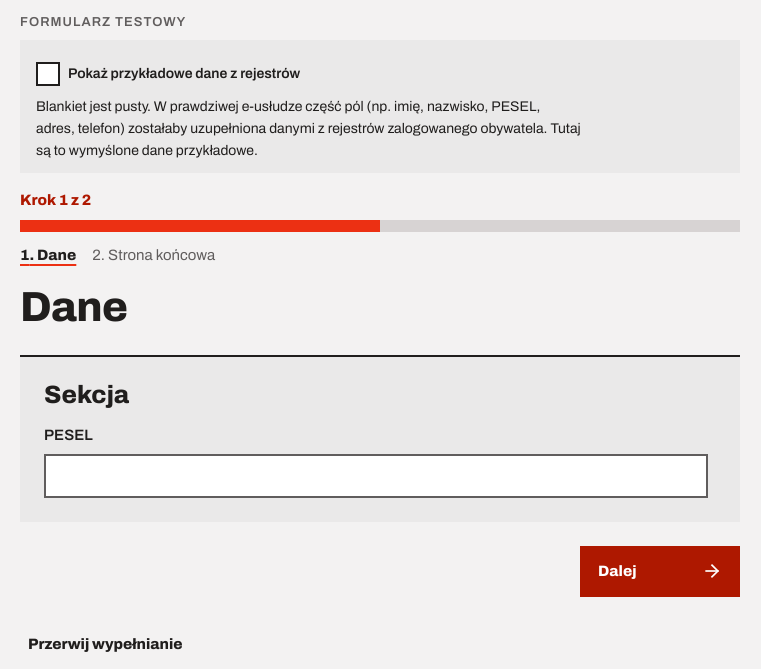
validation on Dalej › 'Wstecz' returns to the previous page with answers kept
This screenshot has width=761, height=669.
In the field labelled "PESEL": (376,476) [44, 454, 708, 498], type "abc"
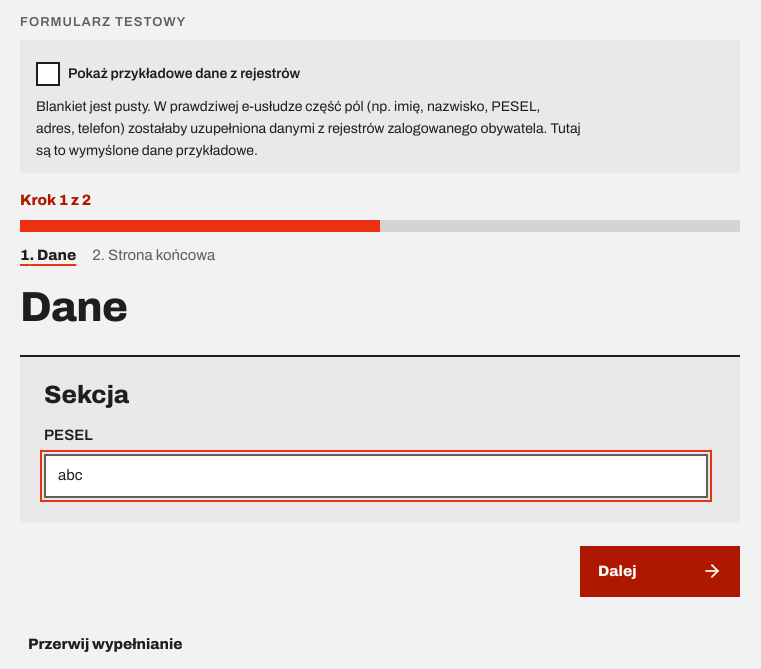
Click the button "Dalej": (660,571) [580, 546, 740, 597]
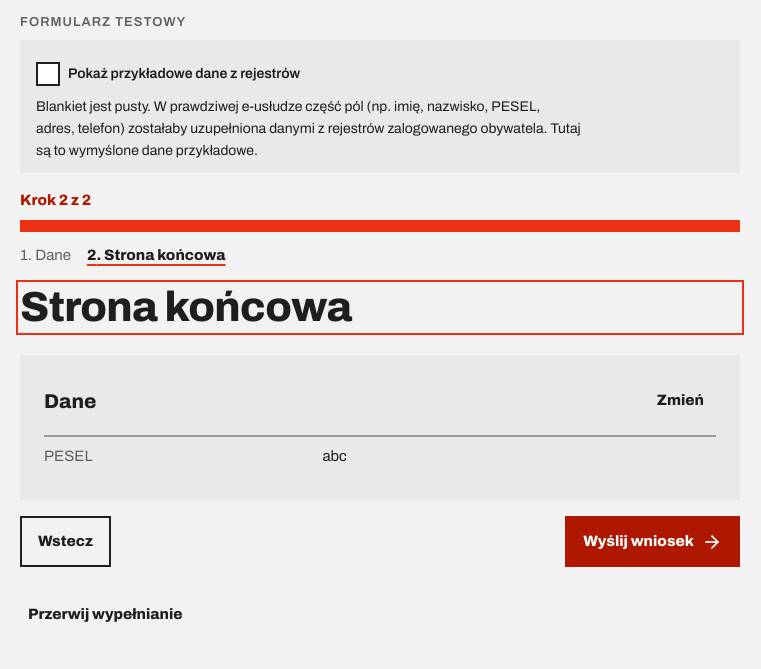
Click the button "Wstecz": (66,542) [20, 516, 111, 567]
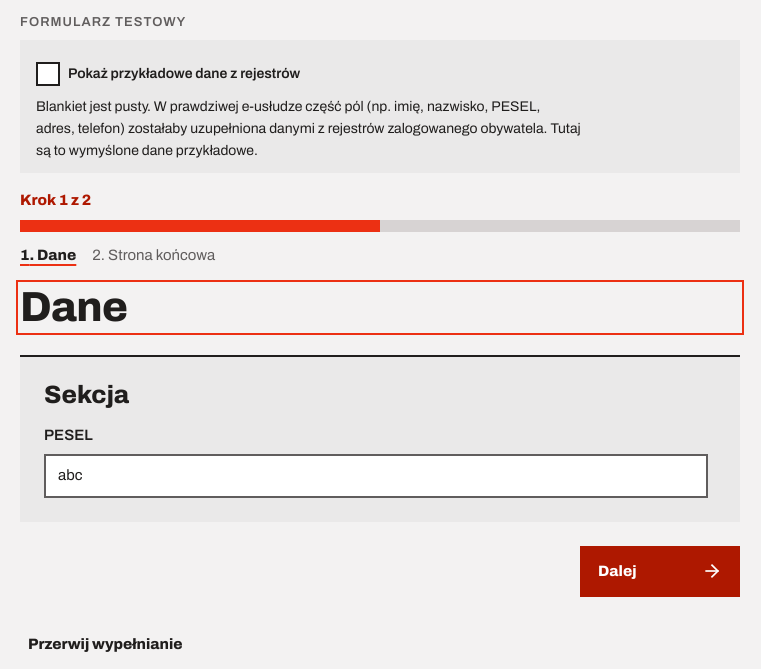
Expected: the field labelled "PESEL" holds "abc", [44, 454, 708, 498]
